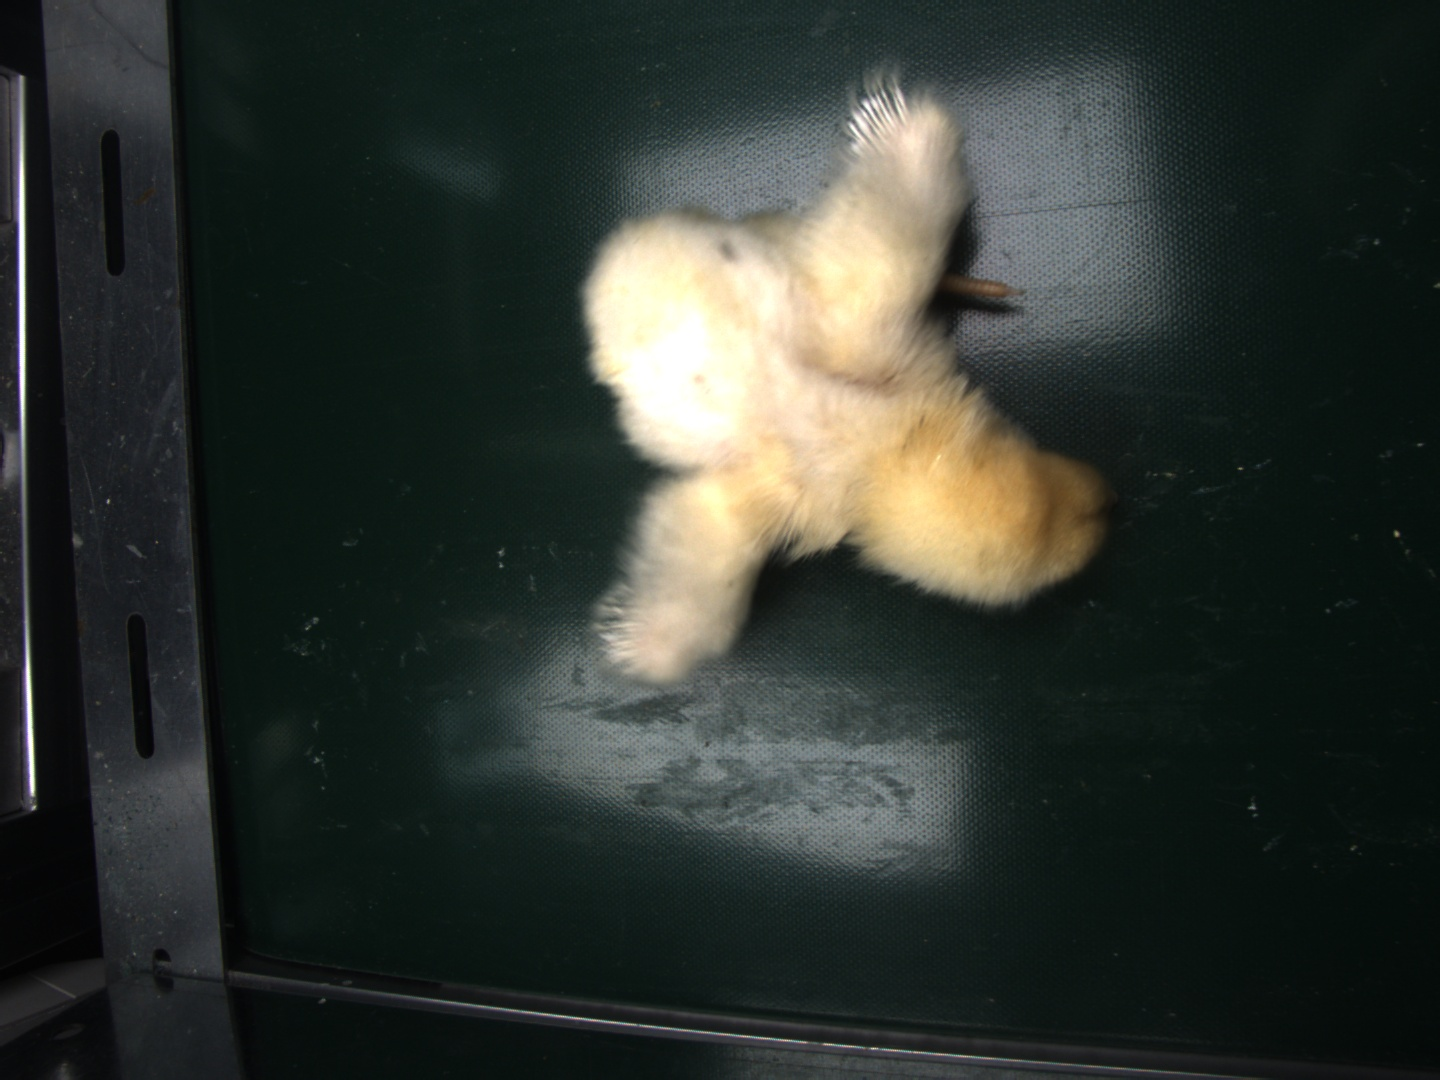male: (845, 81, 910, 149)
